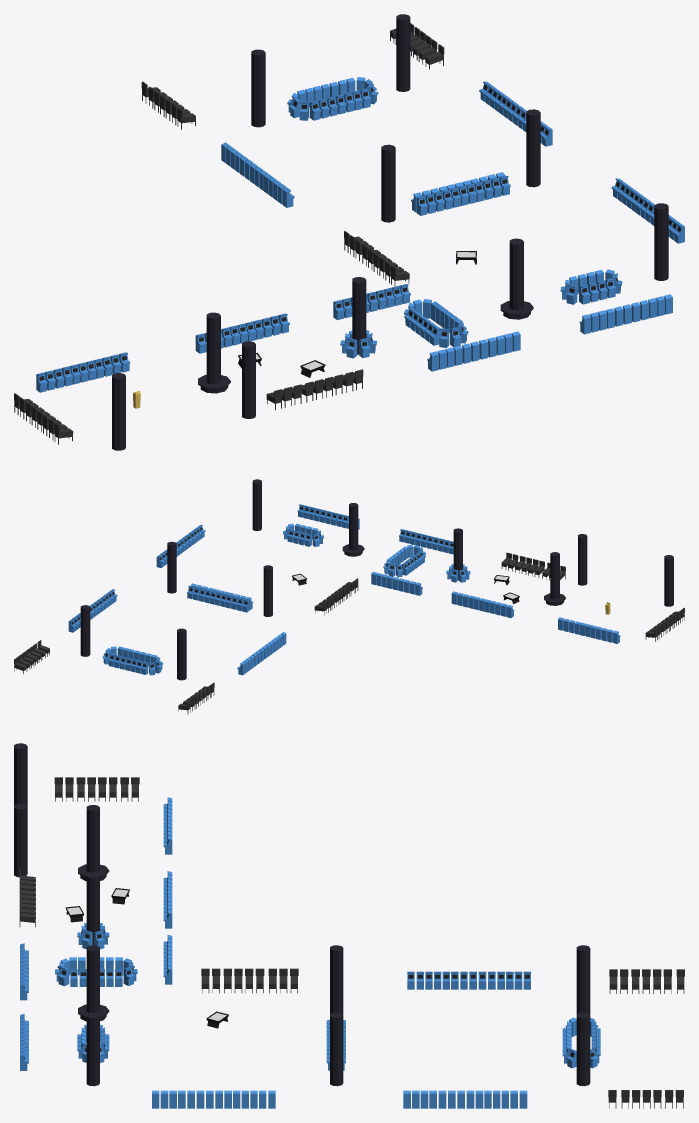
The model's file is Arcade.fbx.
3 views of the same model, one above another, from view 1: azimuth 30°, elevation 25°; view 2: azimuth 150°, elevation 25°; view 3: azimuth 270°, elevation 25° (orthographic). The views are drawn at different scales.
Visible parts, largest first — view 1: Arcade machine.133, Arcade machine.043, Pinball machine.005, Pinball machine.001, Circle.006, Circle.005, Circle.004, Circle.009, Circle.007, Circle.003, Circle.011, Circle.012 (+4 smaller); view 2: Arcade machine.133, Arcade machine.043, Pinball machine.005, Pinball machine.019, Pinball machine.001, Circle.007, Circle.006, Circle.004, Circle.011, Circle.009, Circle.005, Circle.003 (+4 smaller); view 3: Arcade machine.043, Pinball machine.001, Pinball machine.002, Circle.007, Arcade machine.133, Circle.009, Circle.005, Circle.006, Circle.003, Circle.004, Circle.008, Circle.012 (+4 smaller).
Part boxes in pixels (left/top/right/bottom): Arcade machine.133: left=287, top=77, right=378, bottom=120; Arcade machine.043: left=404, top=299, right=468, bottom=347; Pinball machine.005: left=266, top=369, right=363, bottom=410; Pinball machine.001: left=344, top=231, right=409, bottom=286; Circle.006: left=251, top=49, right=265, bottom=127; Circle.005: left=526, top=109, right=540, bottom=187; Circle.004: left=381, top=144, right=395, bottom=222; Circle.009: left=654, top=203, right=668, bottom=280; Circle.007: left=396, top=14, right=410, bottom=91; Circle.003: left=242, top=341, right=255, bottom=418; Circle.011: left=112, top=373, right=125, bottom=450; Circle.012: left=206, top=312, right=220, bottom=384; Arcade machine.133: left=102, top=646, right=163, bottom=675; Arcade machine.043: left=383, top=544, right=425, bottom=577; Pinball machine.005: left=501, top=552, right=565, bottom=580; Pinball machine.019: left=14, top=640, right=49, bottom=673; Pinball machine.001: left=314, top=578, right=358, bottom=615; Circle.007: left=80, top=605, right=90, bottom=656; Circle.006: left=177, top=628, right=186, bottom=680; Circle.004: left=263, top=565, right=272, bottom=616; Circle.011: left=664, top=555, right=673, bottom=606; Circle.009: left=252, top=479, right=261, bottom=530; Circle.005: left=167, top=541, right=176, bottom=593; Circle.003: left=578, top=534, right=587, bottom=585; Arcade machine.043: left=55, top=957, right=137, bottom=986; Pinball machine.001: left=201, top=968, right=298, bottom=993; Pinball machine.002: left=609, top=969, right=684, bottom=993; Circle.007: left=576, top=1012, right=590, bottom=1086; Arcade machine.133: left=562, top=1017, right=600, bottom=1068; Circle.009: left=86, top=1012, right=99, bottom=1086; Circle.005: left=330, top=1012, right=343, bottom=1086; Circle.006: left=576, top=945, right=590, bottom=1014; Circle.003: left=14, top=803, right=27, bottom=877; Circle.004: left=330, top=945, right=343, bottom=1014; Circle.008: left=86, top=945, right=99, bottom=1012; Circle.012: left=86, top=805, right=99, bottom=872.
Size of the model in its own units: 7546 by 768 by 6820.
